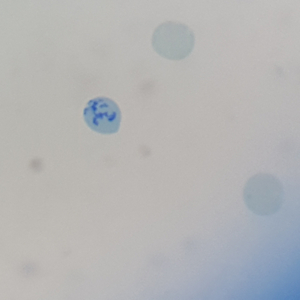aggregate reticulocyte: (82, 95, 123, 136)
erythrocyte: (241, 171, 287, 219), (150, 20, 197, 63)
